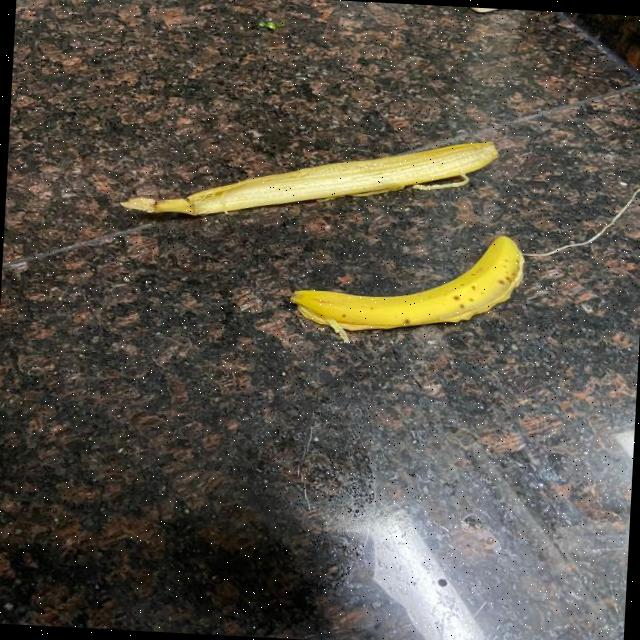banana-peel: (118, 119, 500, 234), (287, 222, 526, 352)
